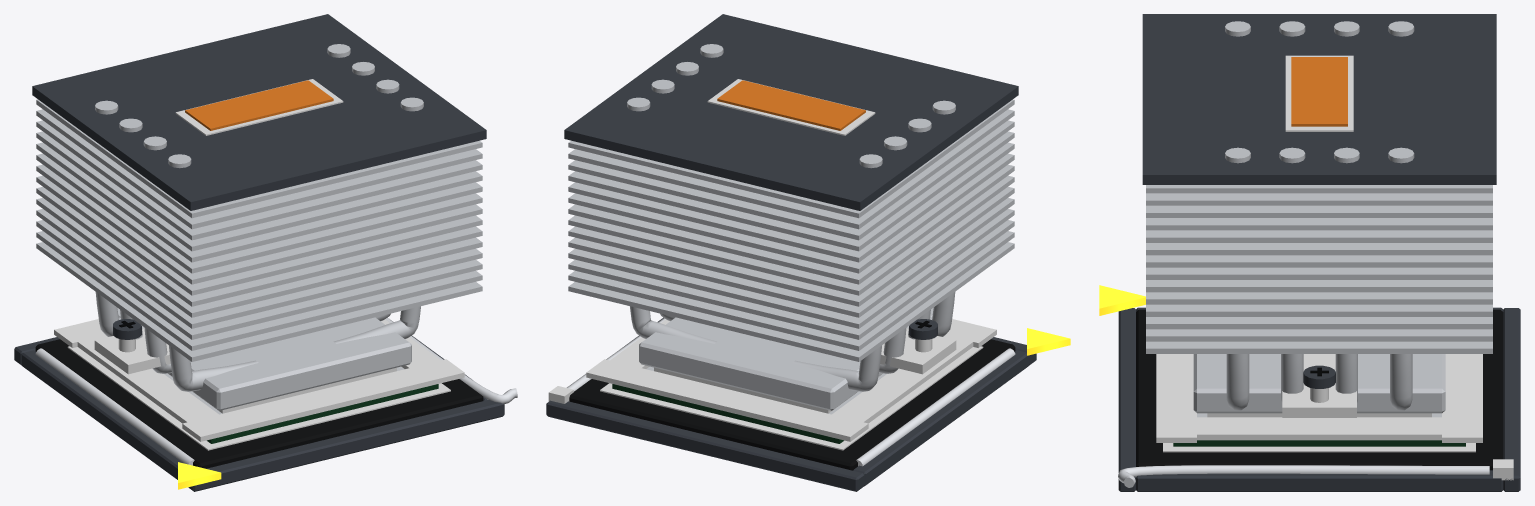
The model's file is hwm_cpu_epyc_24c.glb.
The picture shows the model from 3 angles, left to right: view 1: azimuth 30°, elevation 25°; view 2: azimuth 150°, elevation 25°; view 3: azimuth 270°, elevation 25°; orthographic projection. The views are drawn at different scales.
Parts seen in each view (by area): view 1: Cooler, Socket, Frame, CPU, Screw_0, Lever; view 2: Cooler, Socket, Frame, CPU, Screw_0; view 3: Cooler, Socket, Frame, Lever, CPU, Screw_1.
Boxes of the visible parts, x1,y1,x2,y2 form: Cooler: (32,14,486,410); Socket: (14,320,504,491); Frame: (54,319,464,441); CPU: (164,366,438,443); Screw_0: (113,319,141,352); Lever: (385,317,517,403); Cooler: (564,14,1018,410); Socket: (546,317,1070,491); Frame: (586,319,996,441); CPU: (612,366,886,443); Screw_0: (909,319,937,352); Cooler: (1142,14,1496,417); Socket: (1099,285,1520,491); Frame: (1156,354,1482,442); Lever: (1118,465,1489,487); CPU: (1173,413,1465,446); Screw_1: (1303,365,1335,402).
Bounding box in the file's own units: 0.1338 × 0.1031 × 0.1239.
